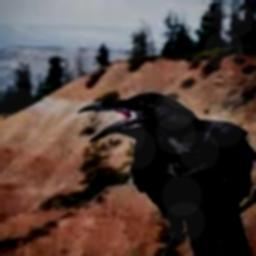Crow: (78, 91, 256, 256)
